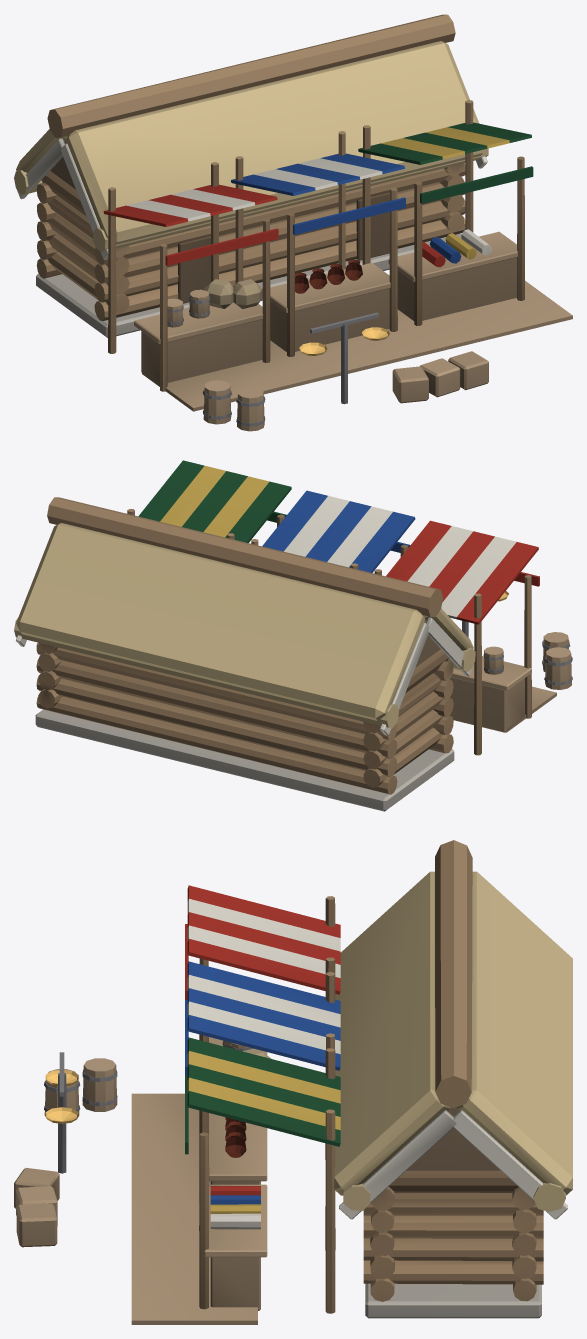
Rendered from bld_market.glb.
3 renders of one model, top to bottom at view 1: azimuth 30°, elevation 25°; view 2: azimuth 150°, elevation 25°; view 3: azimuth 270°, elevation 25°, orthographic. The views are drawn at different scales.
Visible parts, largest first — view 1: market; view 2: market; view 3: market.
Boxes of the visible parts, left/top/right/bottom form: market: left=14, top=14, right=572, bottom=431; market: left=14, top=460, right=572, bottom=811; market: left=14, top=840, right=572, bottom=1324.
Size of the model in its own units: 1.76 by 0.8884 by 1.77.
